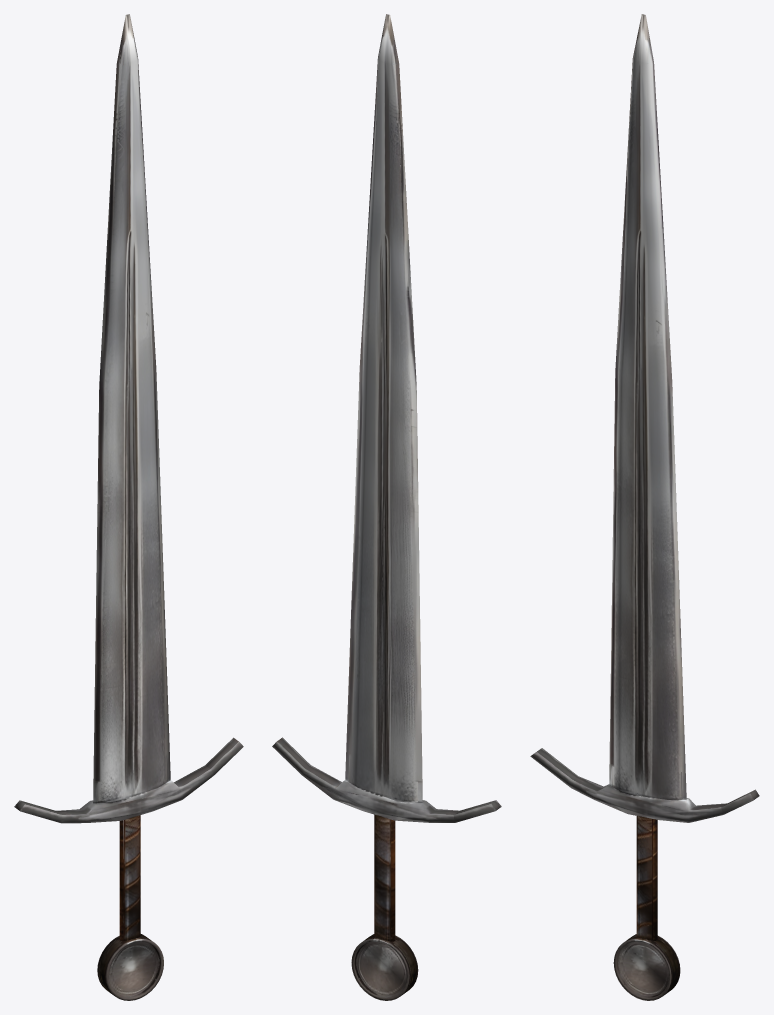
3 renders of one model, left to right at view 1: azimuth 30°, elevation 25°; view 2: azimuth 150°, elevation 25°; view 3: azimuth 330°, elevation 25°, orthographic.
Visible parts, largest first — view 1: tripo_node_eb9a2134-4220-46bc-9c34-af28eb81333e; view 2: tripo_node_eb9a2134-4220-46bc-9c34-af28eb81333e; view 3: tripo_node_eb9a2134-4220-46bc-9c34-af28eb81333e.
Boxes of the visible parts, <box> form: tripo_node_eb9a2134-4220-46bc-9c34-af28eb81333e: <box>14,14,243,1000</box>; tripo_node_eb9a2134-4220-46bc-9c34-af28eb81333e: <box>272,14,501,1000</box>; tripo_node_eb9a2134-4220-46bc-9c34-af28eb81333e: <box>530,14,759,1000</box>.
Bounding box in the file's own units: 0.2379 × 1 × 0.0178.
1 material, 1 textured.
